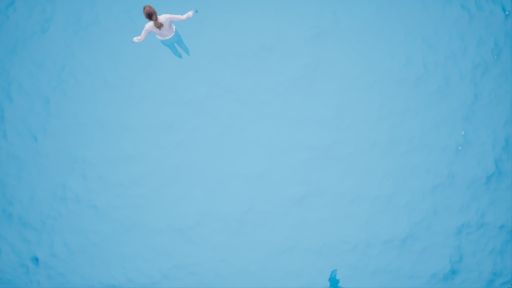person: (129, 1, 203, 64)
